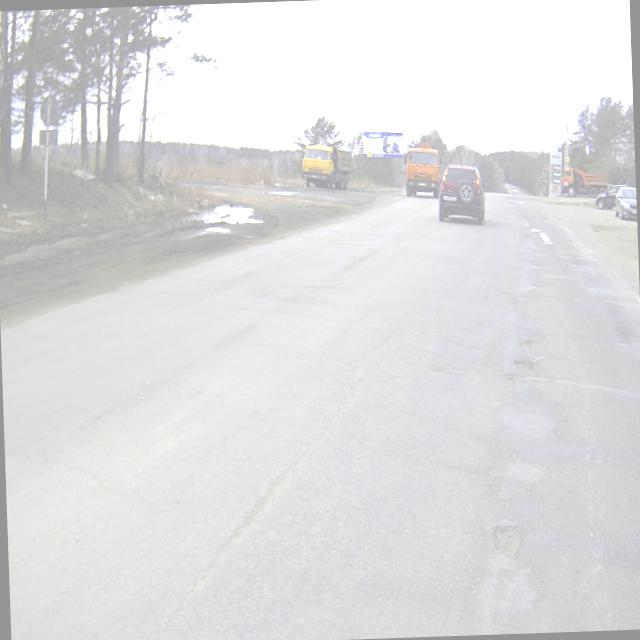road: (1, 191, 640, 640)
